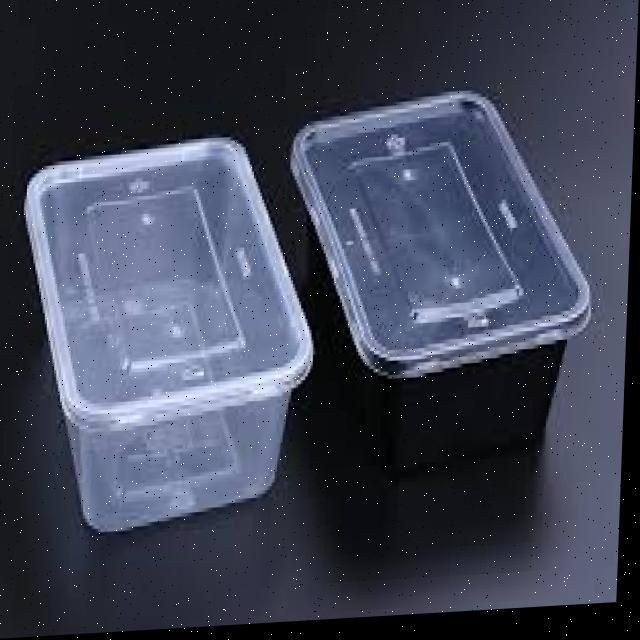disposable: (12, 117, 317, 567), (273, 67, 611, 432)
